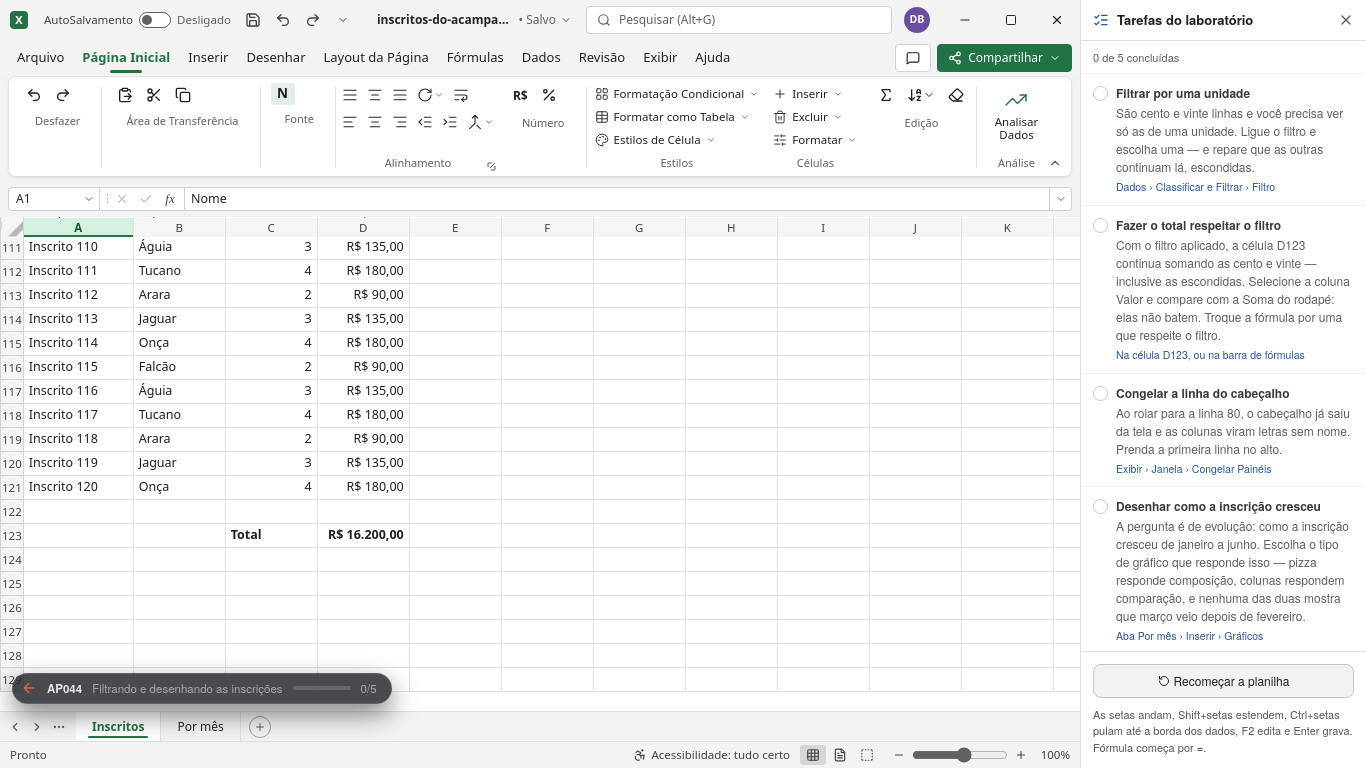
Test: a planilha do acampamento se resolve clicando › é a grade do Excel: o total mora em D123, escrito como fórmula
The width and height of the screenshot is (1366, 768).
(page scrolled)
Press the mouse on the cell "R$ 16.200,00" at point(363, 535), box [317,523,409,547]
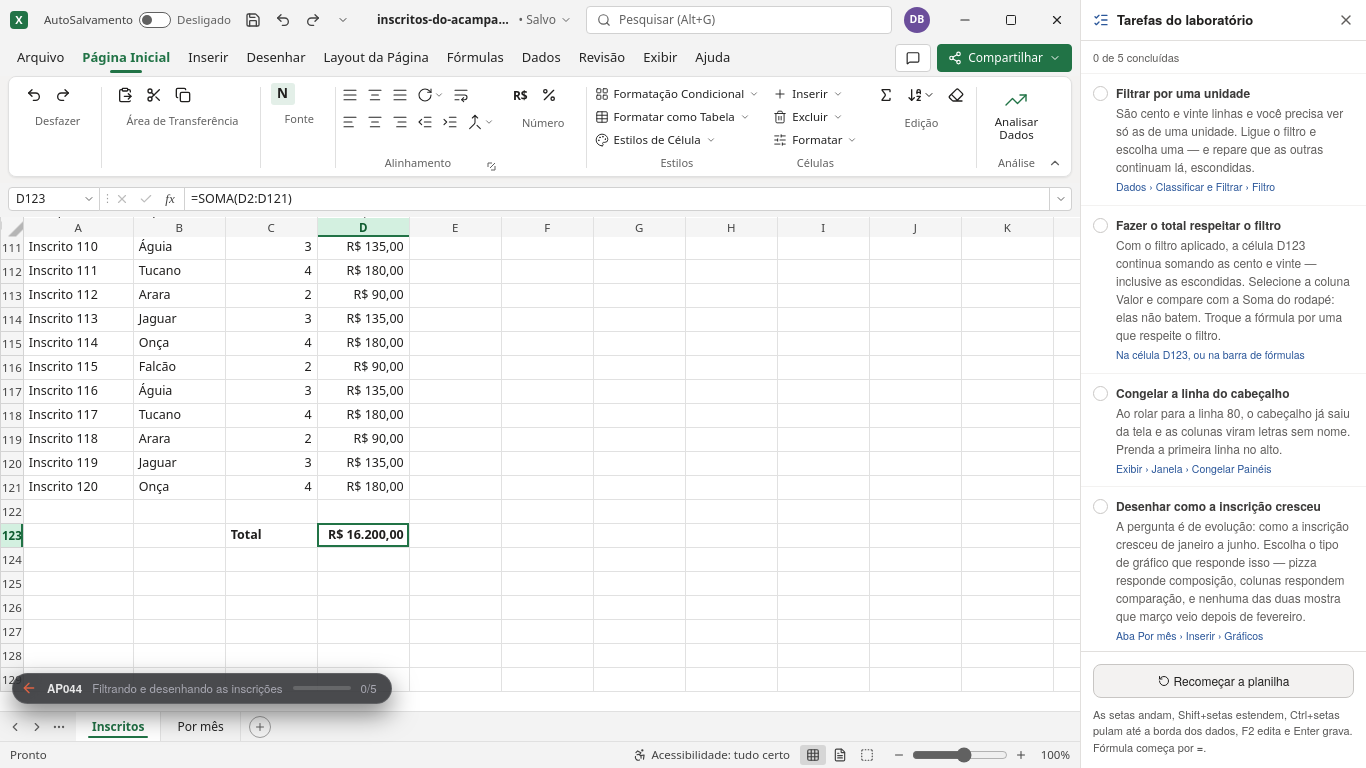
Expected: the field named "Barra de fórmulas" holds "=SOMA(D2:D121)", [184,186,1050,210]
Expected: the element showing "D123" is shown, [8,186,100,210]
